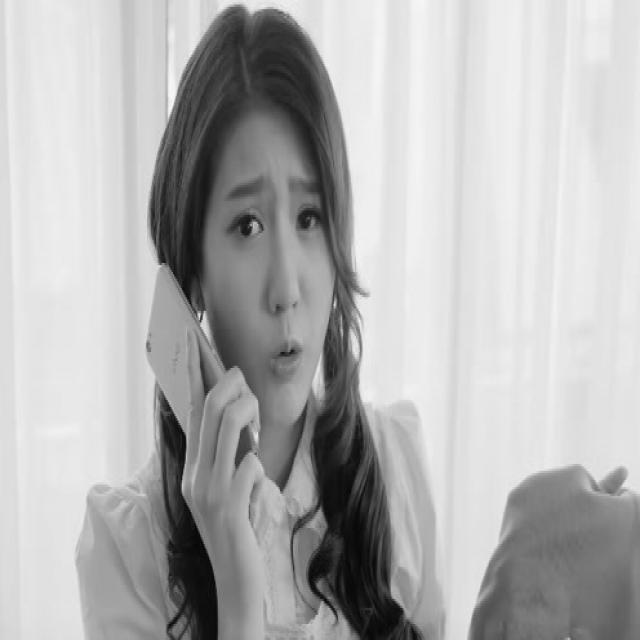phone: (127, 233, 267, 546)
